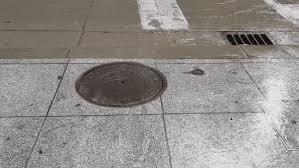closed manhole-not overflowing-: (78, 65, 164, 106)
